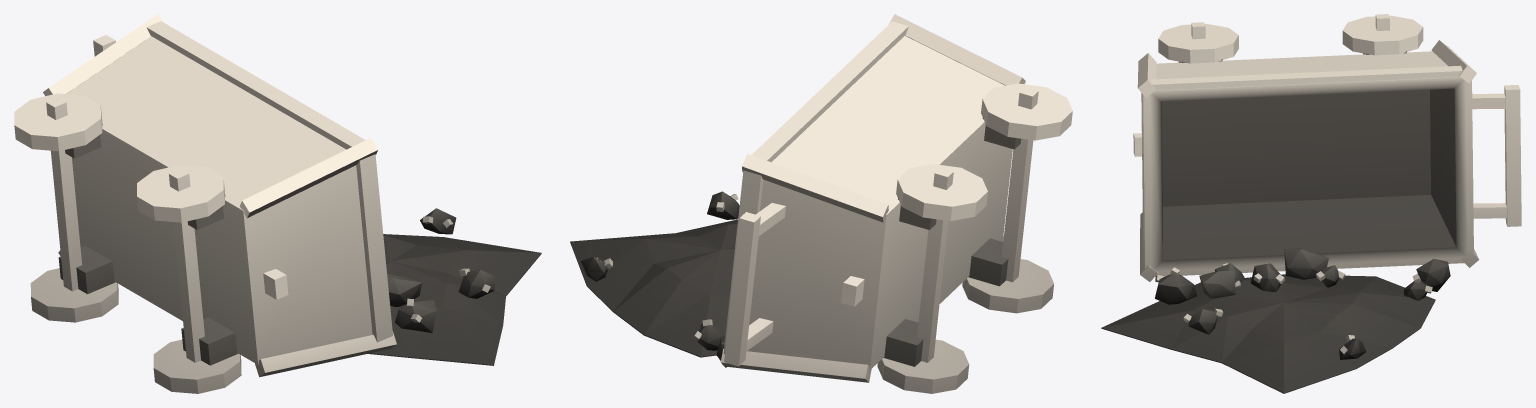
File: SM_VKI_Prop_Mine_Cart_Tipped.fbx
3 views of the same model, side by side, from view 1: azimuth 30°, elevation 25°; view 2: azimuth 150°, elevation 25°; view 3: azimuth 270°, elevation 25° (orthographic). The views are drawn at different scales.
Visible parts, largest first — view 1: SM_VKI_Prop_Mine_Cart_Tipped.001; view 2: SM_VKI_Prop_Mine_Cart_Tipped.001; view 3: SM_VKI_Prop_Mine_Cart_Tipped.001.
Boxes of the visible parts, bbox=[...] form: SM_VKI_Prop_Mine_Cart_Tipped.001: bbox=[14, 14, 541, 393]; SM_VKI_Prop_Mine_Cart_Tipped.001: bbox=[570, 14, 1072, 393]; SM_VKI_Prop_Mine_Cart_Tipped.001: bbox=[1101, 14, 1521, 393].
Size of the model in its own units: 1.65 by 0.7982 by 1.45.
